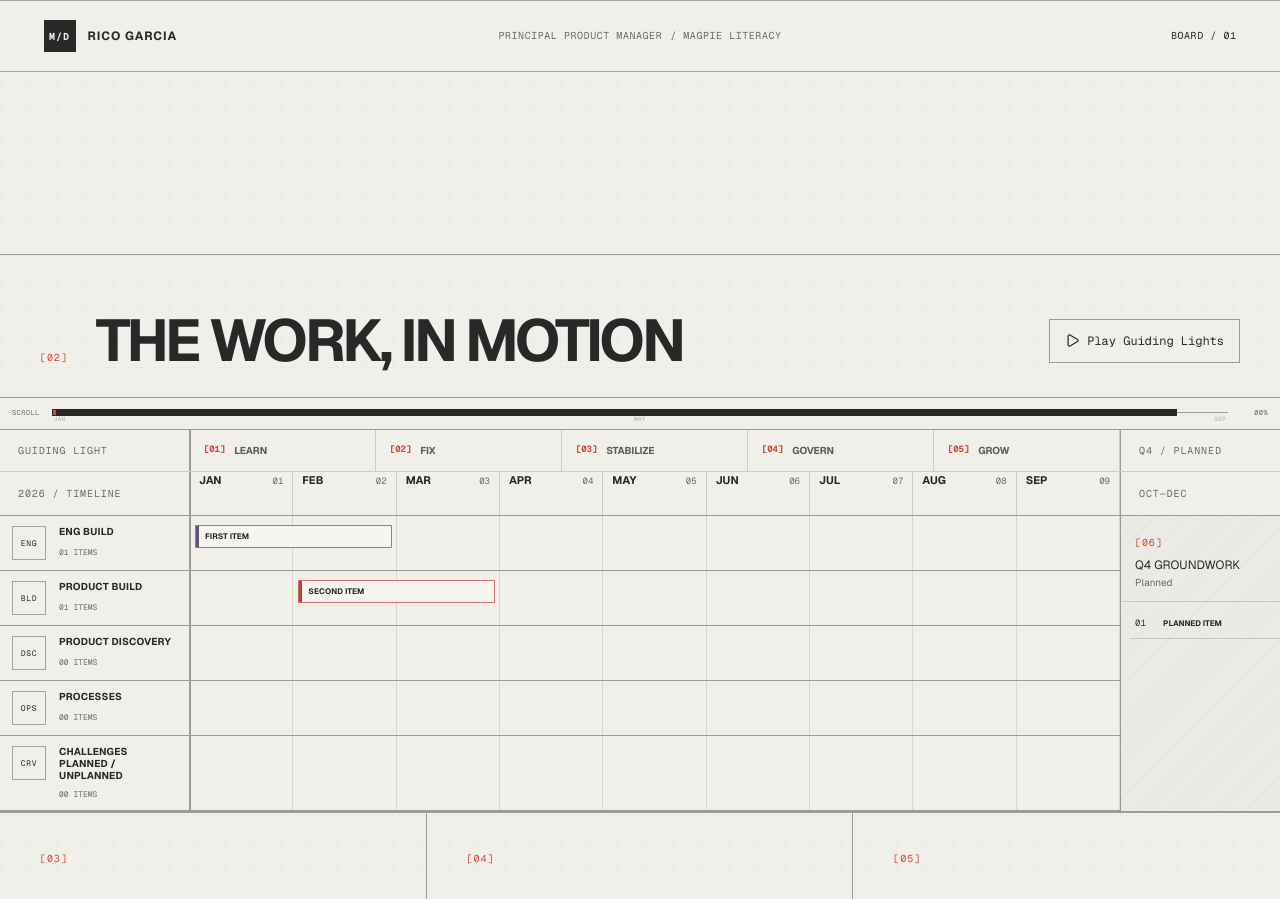
PublicTimeline Guiding Light narrative › keeps the selected light during rail interaction and item pointerdown until inspection opens
The width and height of the screenshot is (1280, 899).
(page scrolled)
Click the button "[01] Learn": (283, 450) [190,430,376,471]
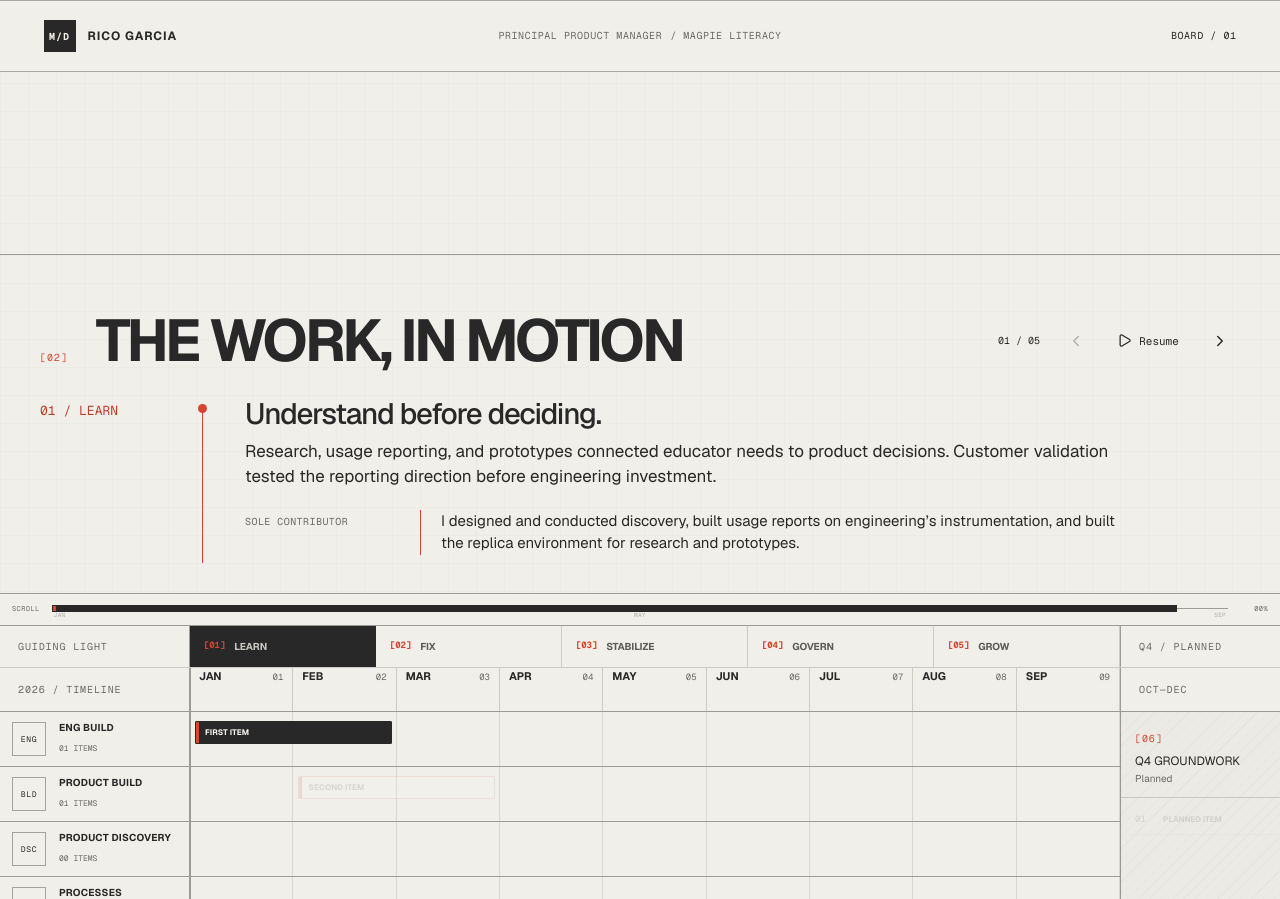
Press the mouse on the slider named "Scroll the timeline horizontally": (640, 609) [52,598,1228,620]
Check: the heading "Understand before deciding." is shown, box [245,397,601,433]
Press the mouse on the button "First item": (293, 732) [195,721,392,744]
Check: the button "[01] Learn" is pressed, box [190,626,376,667]
Click the button "First item": (293, 732) [195,721,392,744]
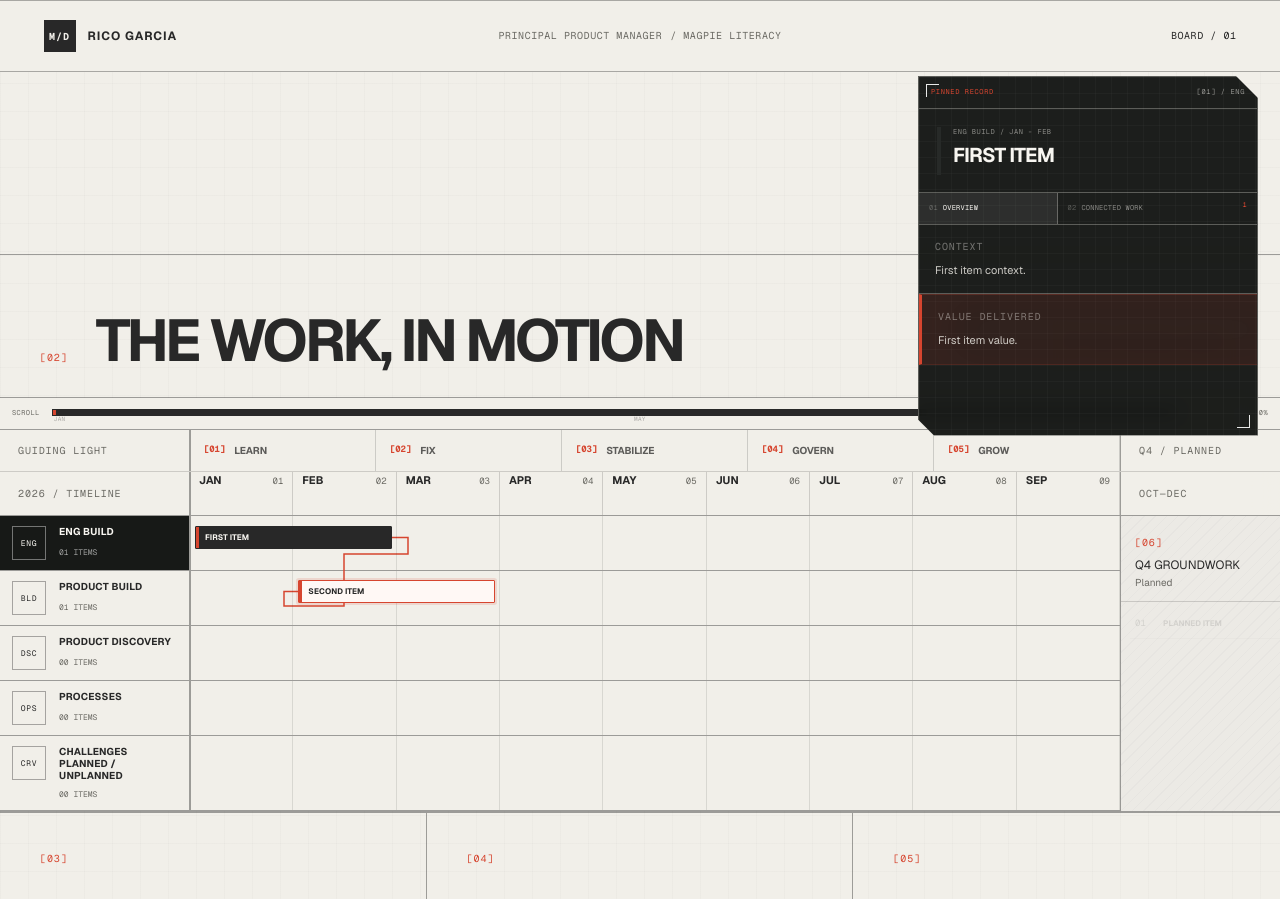
Check: the element named "Selected details for First item" is shown, box [918,76,1258,436]
Check: the heading "Understand before deciding." is gone
